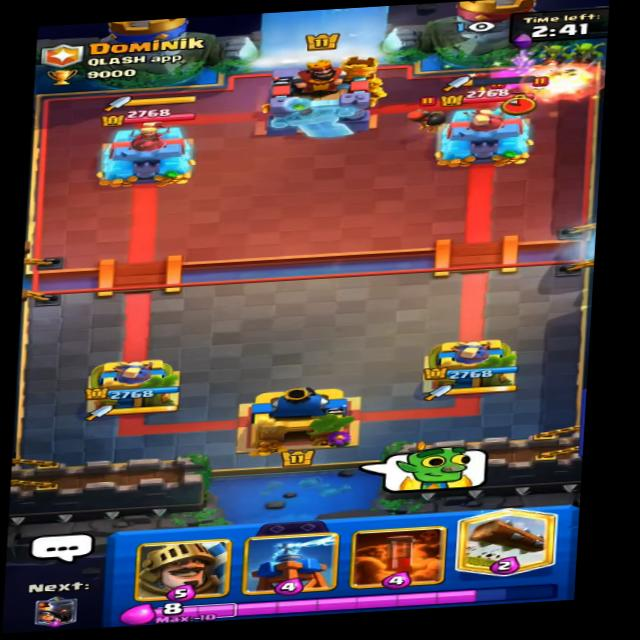bomber: (397, 93, 451, 137)
skeleton: (529, 74, 563, 98)
